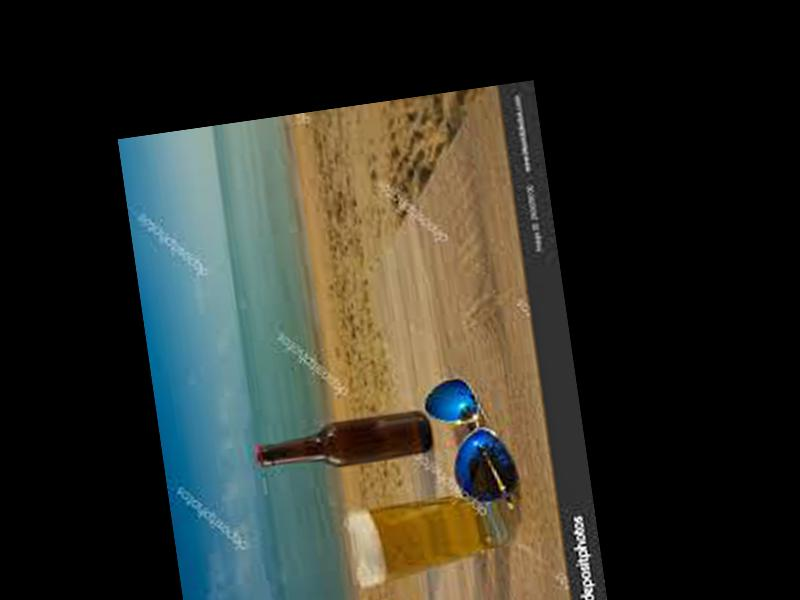Beer: (252, 409, 432, 478)
